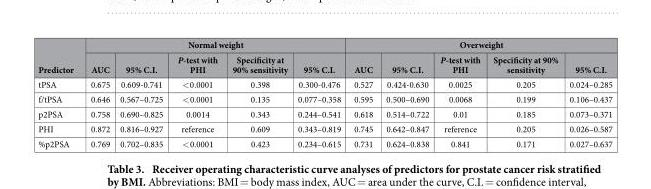table: (37, 37, 611, 149)
table column: (486, 37, 563, 149), (224, 37, 292, 149), (378, 37, 434, 149), (114, 37, 169, 149), (169, 37, 224, 149), (292, 37, 346, 149), (434, 37, 486, 149), (563, 37, 611, 149), (37, 37, 81, 149), (81, 37, 114, 149), (346, 37, 378, 149)
table column header: (37, 37, 611, 76)
table row: (37, 51, 611, 76), (37, 76, 611, 91), (37, 91, 611, 106), (37, 106, 611, 121), (37, 37, 611, 51), (37, 121, 611, 135), (37, 135, 611, 149)
table spanning cell: (81, 37, 346, 51), (346, 37, 611, 51), (37, 37, 81, 76)
